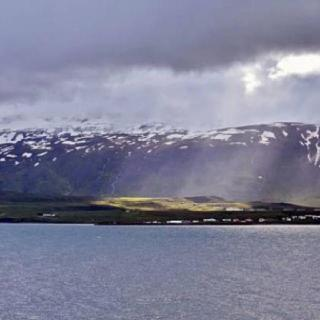Altocumulus: (0, 0, 320, 129)
